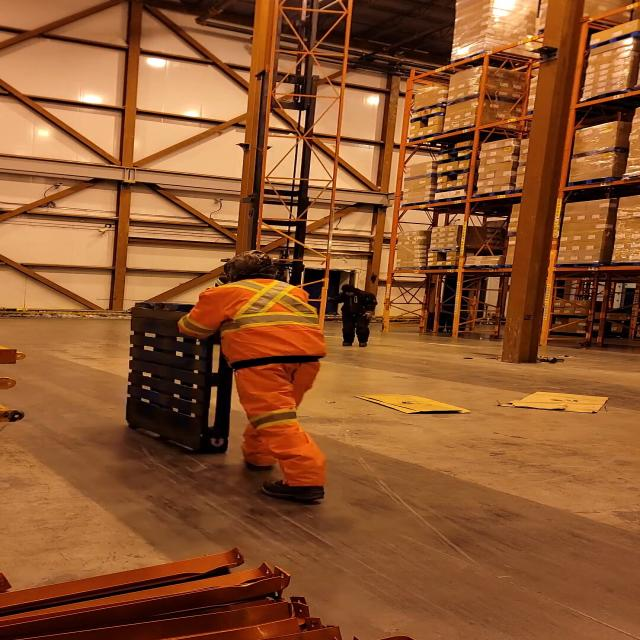forklift: (200, 192, 327, 348)
human: (182, 249, 364, 504), (329, 281, 384, 349)
objectofinterest: (248, 4, 346, 351), (124, 296, 240, 454), (352, 388, 471, 415), (503, 388, 614, 413)
